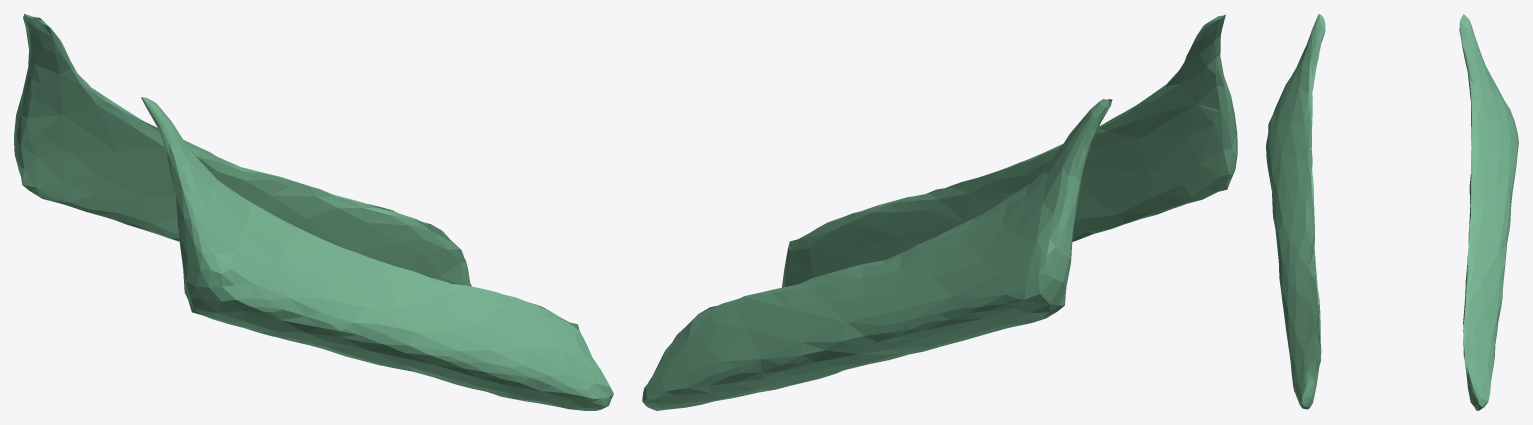
3 renders of one model, left to right at view 1: azimuth 30°, elevation 25°; view 2: azimuth 150°, elevation 25°; view 3: azimuth 270°, elevation 25°, orthographic. The views are drawn at different scales.
Visible parts, largest first — view 1: 810.obj; view 2: 810.obj; view 3: 810.obj.
Boxes of the visible parts, x1,y1,x2,y2 form: 810.obj: [14, 14, 613, 410]; 810.obj: [642, 14, 1237, 410]; 810.obj: [1266, 14, 1518, 410].
Bounding box in the file's own units: 2208 × 1907 × 1679.
